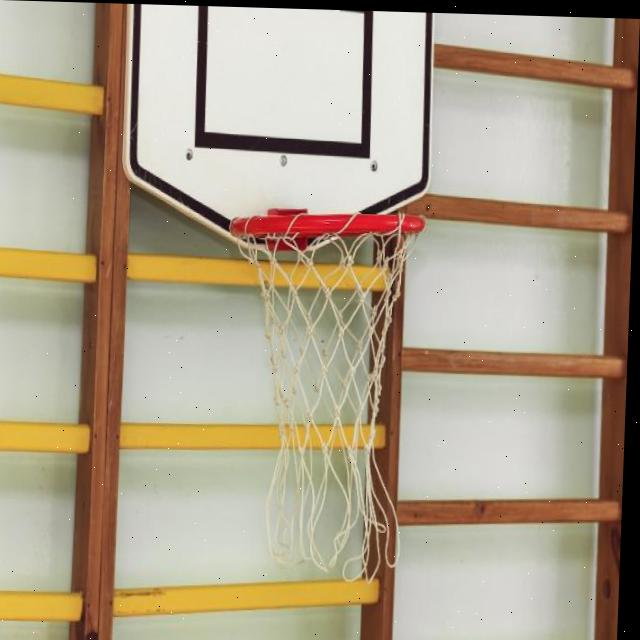hoop: (217, 209, 428, 585)
